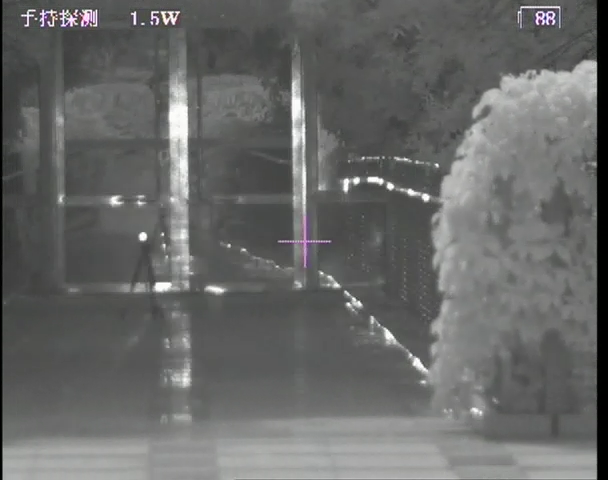my: (137, 230, 149, 243)
